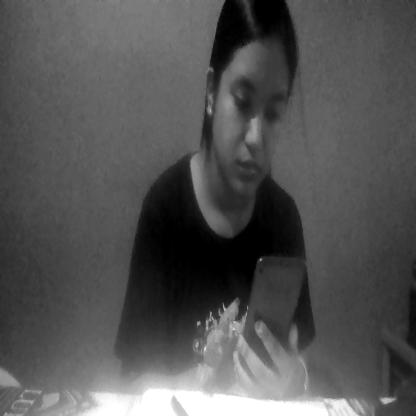Distracted: (199, 6, 315, 228)
